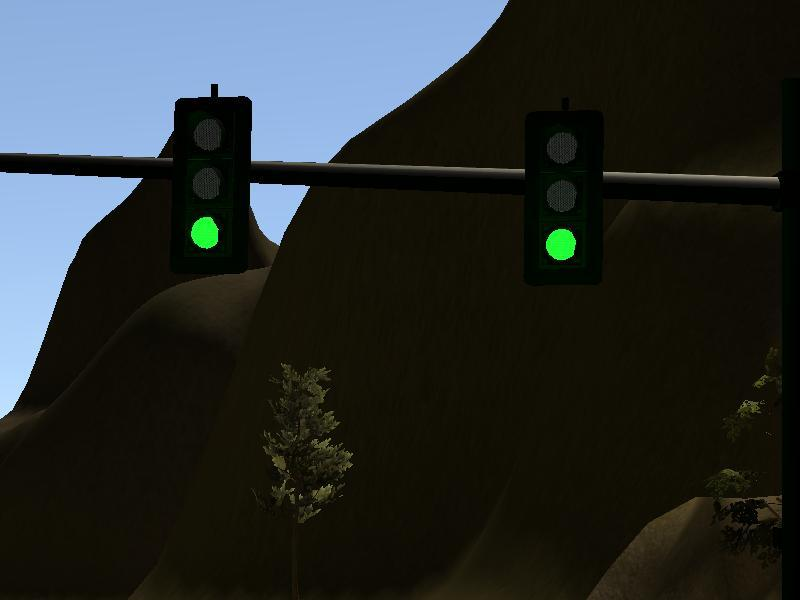Green: (523, 110, 604, 285), (171, 97, 250, 274)
